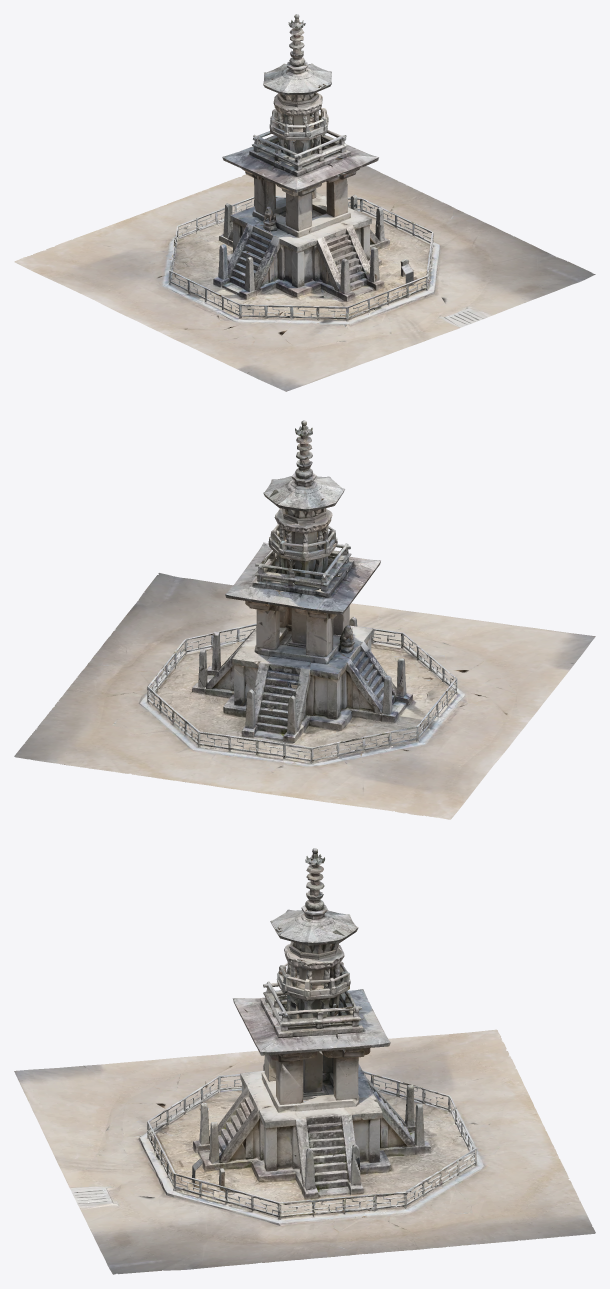
File: pagoda.glb
3 renders of one model, top to bottom at view 1: azimuth 30°, elevation 25°; view 2: azimuth 150°, elevation 25°; view 3: azimuth 270°, elevation 25°, orthographic. The views are drawn at different scales.
Visible parts, largest first — view 1: dabotap; view 2: dabotap; view 3: dabotap.
Part boxes in pixels (x1,y1,x2,y2): dabotap: (14,14,595,391); dabotap: (14,420,595,819); dabotap: (14,848,595,1274).
Bounding box in the file's own units: 18.87 × 10.89 × 18.8.
Materials: 1 (1 with a texture image).
